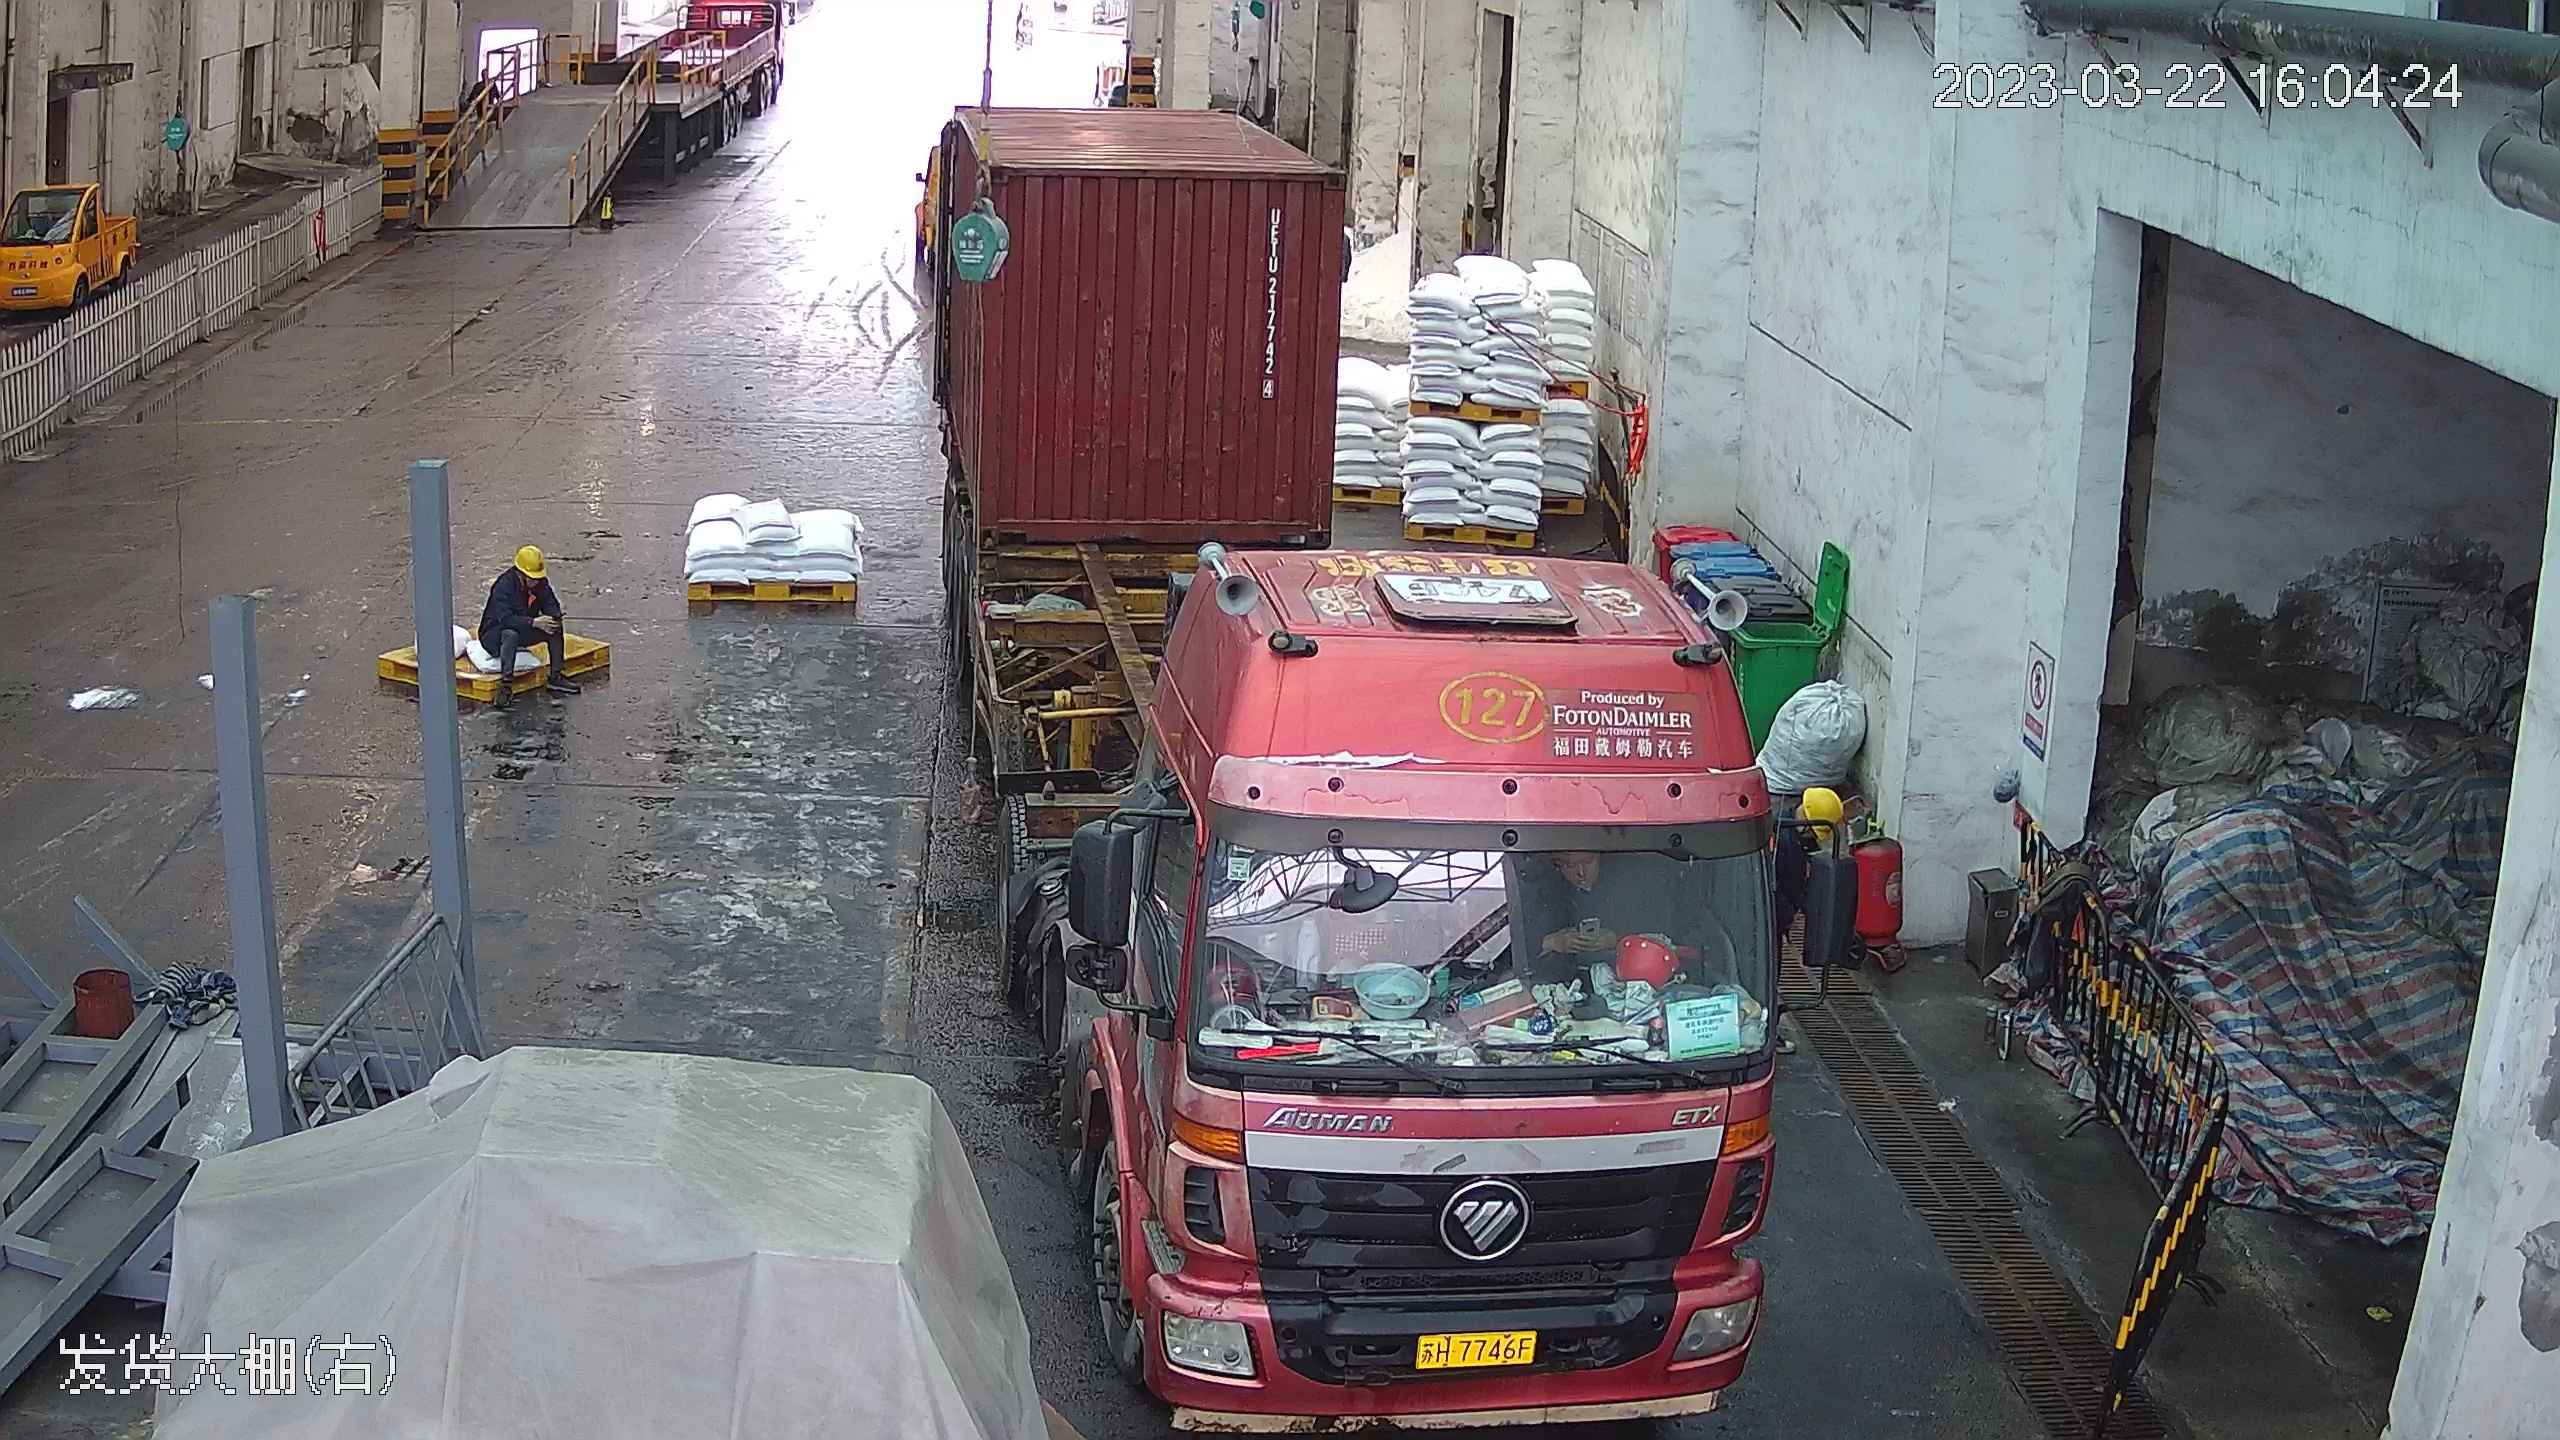head: (490, 540, 555, 606)
helmet: (1800, 784, 1847, 825), (513, 541, 548, 572)
people: (476, 538, 563, 705)
truck: (928, 19, 1803, 1430)
